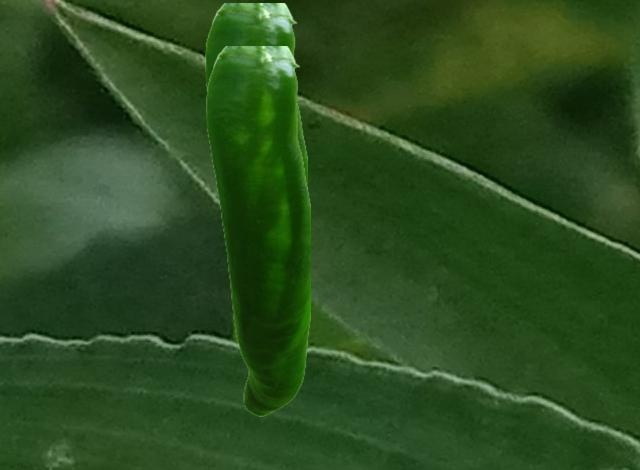green_chili: (206, 46, 309, 415), (205, 3, 306, 174)
